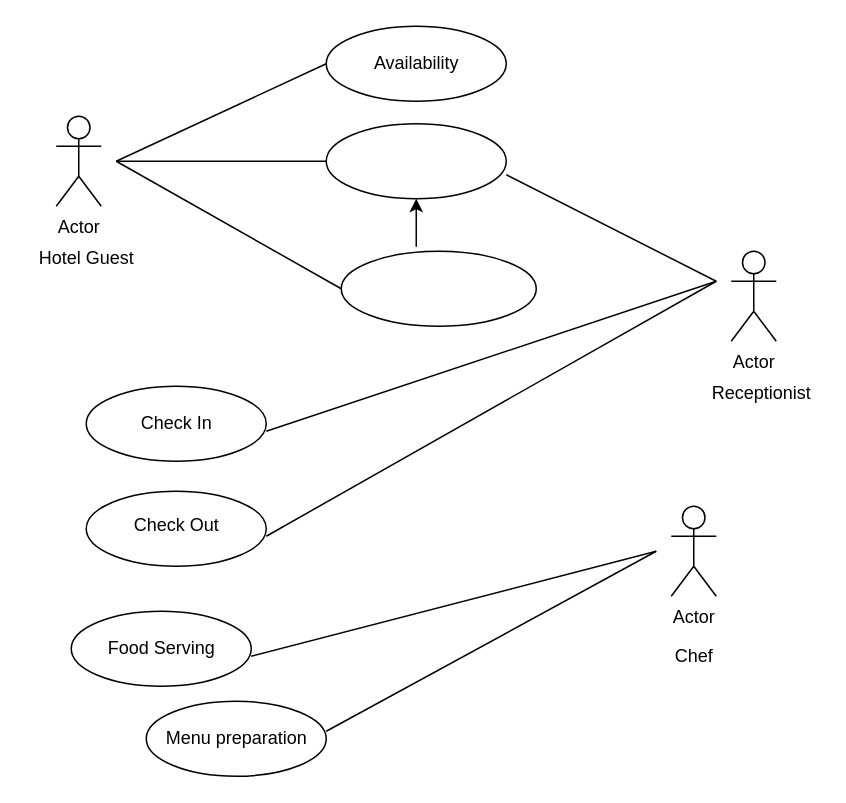
The diagram is 846 pixels wide and 803 high, and some of its shapes have lost their labels. The box of each missing label's shape, as (x1, y1, x2, y2) in pixels:
Book Room: (325, 122, 506, 199)
cancel Reservation: (340, 250, 536, 326)
